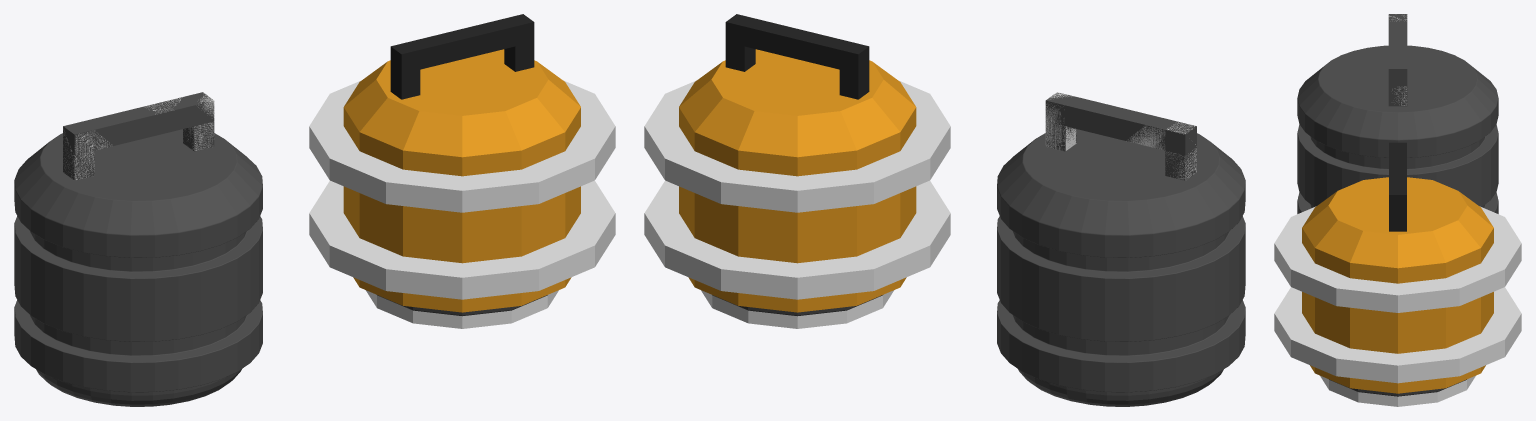
File: Battery Models.fbx
The picture shows the model from 3 angles, left to right: view 1: azimuth 30°, elevation 25°; view 2: azimuth 150°, elevation 25°; view 3: azimuth 270°, elevation 25°; orthographic projection. The views are drawn at different scales.
Visible parts, largest first — view 1: Cylinder, Cylinder.001, Cylinder.004, Cube.001, Cylinder.003, Cube, Cylinder.002; view 2: Cylinder, Cylinder.001, Cylinder.004, Cube.001, Cylinder.003, Cube, Cylinder.002; view 3: Cylinder, Cylinder.001, Cylinder.004, Cylinder.003, Cube.001, Cylinder.002.
Boxes of the visible parts, x1,y1,x2,y2 form: Cylinder: [14, 92, 262, 406]; Cylinder.001: [343, 49, 580, 312]; Cylinder.004: [309, 80, 615, 299]; Cube.001: [390, 14, 534, 99]; Cylinder.003: [365, 290, 558, 328]; Cube: [63, 93, 214, 180]; Cylinder.002: [377, 295, 547, 316]; Cylinder: [997, 92, 1245, 406]; Cylinder.001: [679, 49, 916, 312]; Cylinder.004: [644, 80, 950, 299]; Cube.001: [725, 14, 869, 99]; Cylinder.003: [701, 290, 894, 328]; Cube: [1045, 92, 1196, 180]; Cylinder.002: [712, 295, 882, 316]; Cylinder: [1297, 14, 1498, 213]; Cylinder.001: [1302, 177, 1493, 393]; Cylinder.004: [1274, 206, 1521, 383]; Cylinder.003: [1320, 375, 1475, 406]; Cube.001: [1389, 142, 1406, 231]; Cylinder.002: [1329, 379, 1466, 396].
Bounding box in the file's own units: 523 × 229 × 246.
